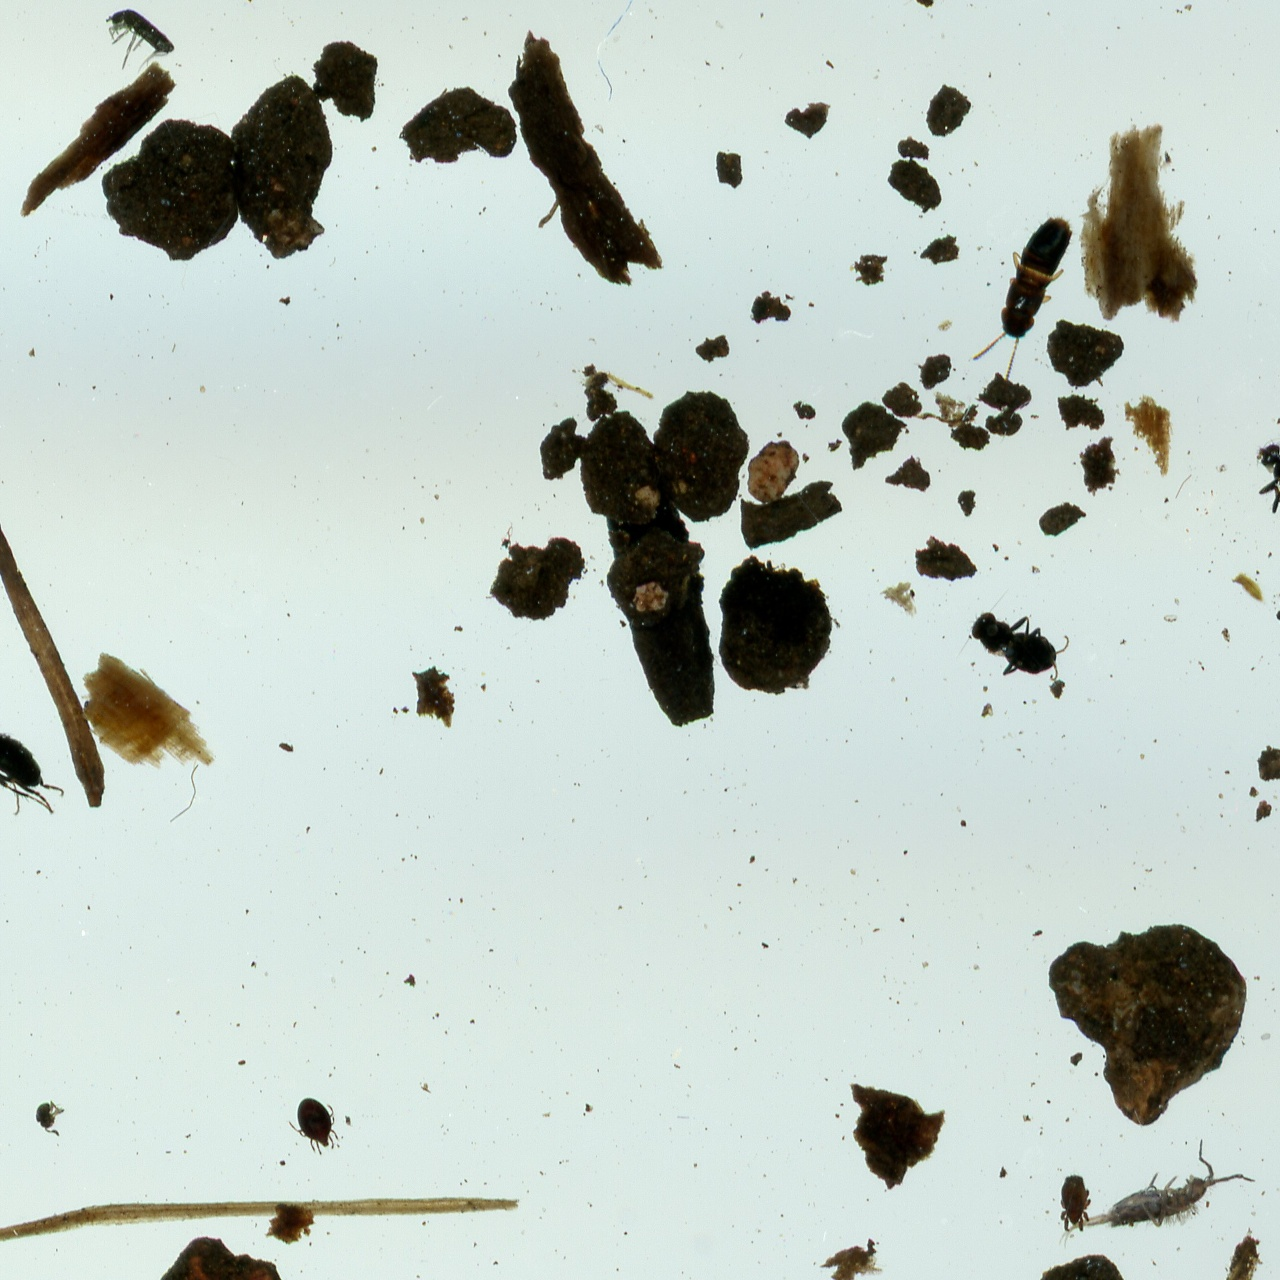arthropod: (1036, 1124, 1269, 1259), (958, 193, 1095, 384), (949, 571, 1088, 701), (0, 712, 68, 823), (277, 1083, 354, 1169), (95, 4, 177, 79), (1251, 437, 1280, 572), (1056, 1172, 1095, 1235)
